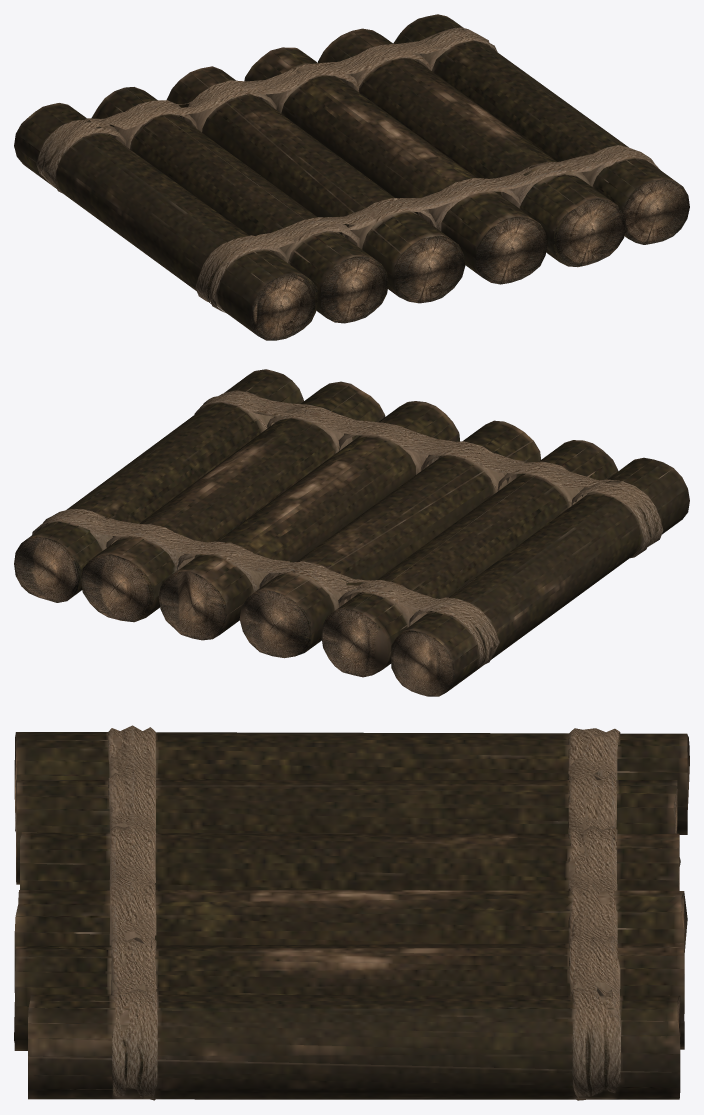
The model's file is log_raft.glb.
3 views of the same model, one above another, from view 1: azimuth 30°, elevation 25°; view 2: azimuth 150°, elevation 25°; view 3: azimuth 270°, elevation 25° (orthographic). The views are drawn at different scales.
Bounding box in the file's own units: 0.9609 × 0.1431 × 0.8574.
Materials: 1 (1 with a texture image).
